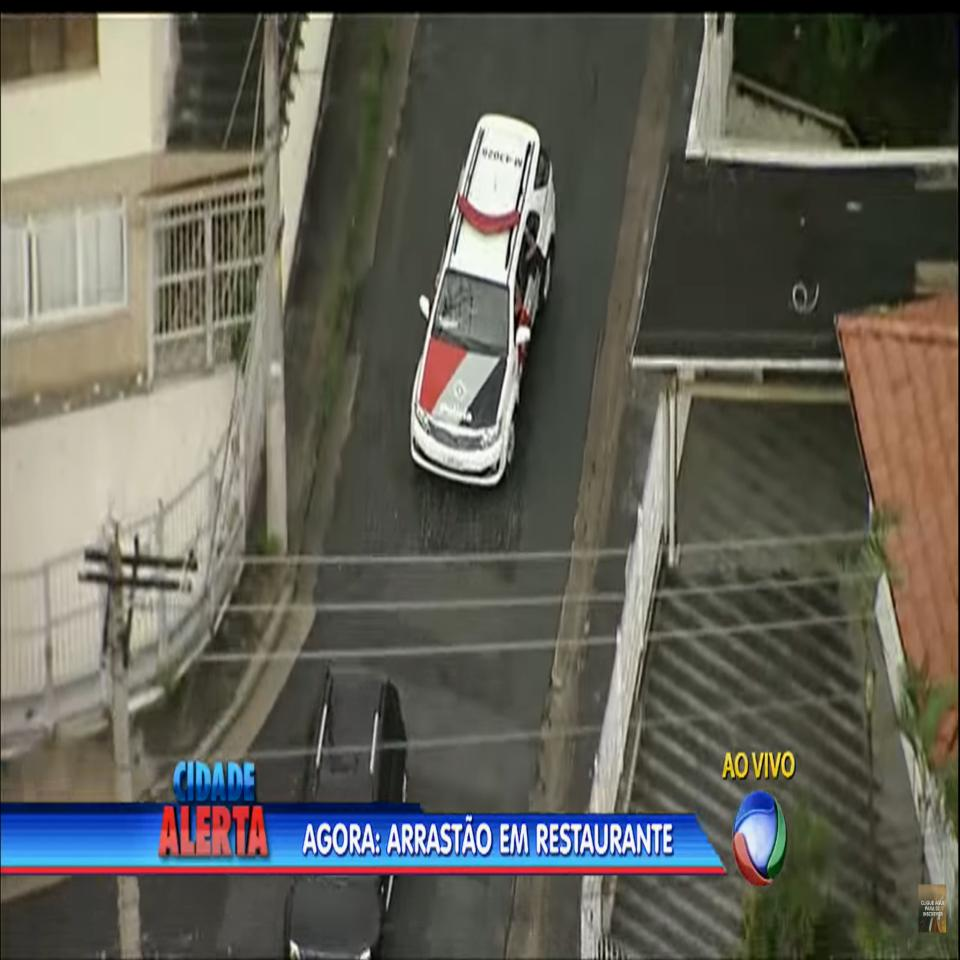viatura: (407, 112, 557, 489)
